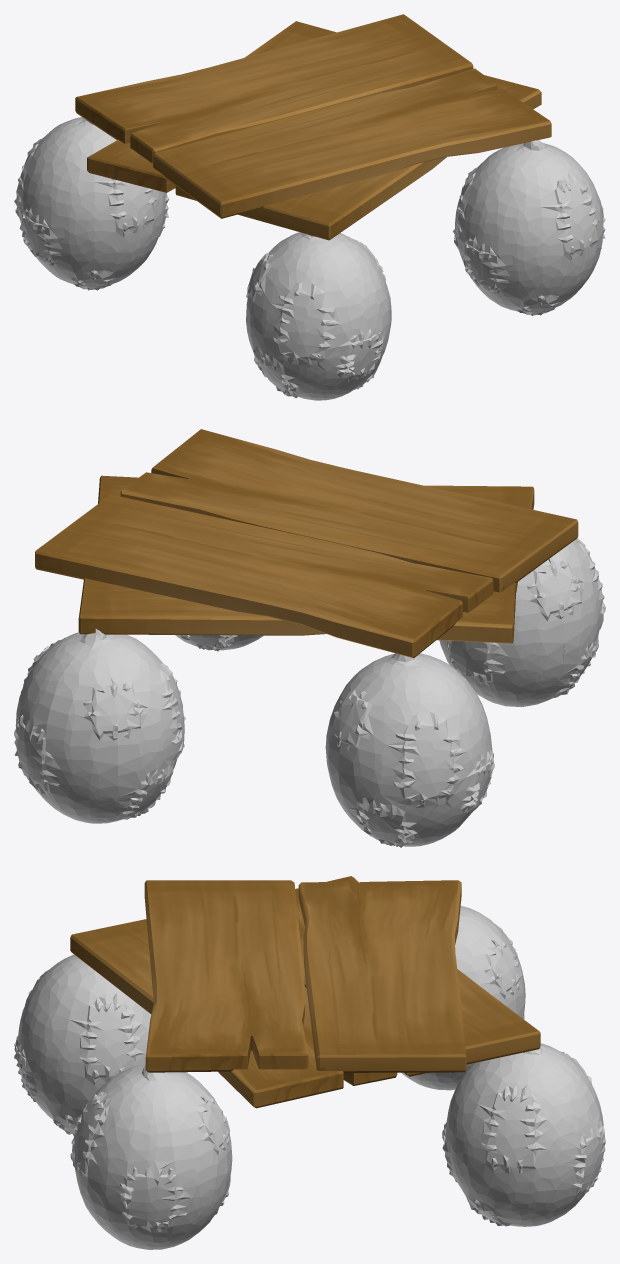
The model's file is FloatingPlatform_m.fbx.
3 views of the same model, one above another, from view 1: azimuth 30°, elevation 25°; view 2: azimuth 150°, elevation 25°; view 3: azimuth 270°, elevation 25° (orthographic). The views are drawn at different scales.
Parts seen in each view (by area): view 1: balloonnnn:balloonnnn:polySurface134; view 2: balloonnnn:balloonnnn:polySurface134; view 3: balloonnnn:balloonnnn:polySurface134.
Boxes of the visible parts, x1,y1,x2,y2 form: balloonnnn:balloonnnn:polySurface134: (14,14,605,400); balloonnnn:balloonnnn:polySurface134: (14,429,605,847); balloonnnn:balloonnnn:polySurface134: (14,876,605,1249).
Size of the model in its own units: 33.11 by 14.14 by 36.08.
